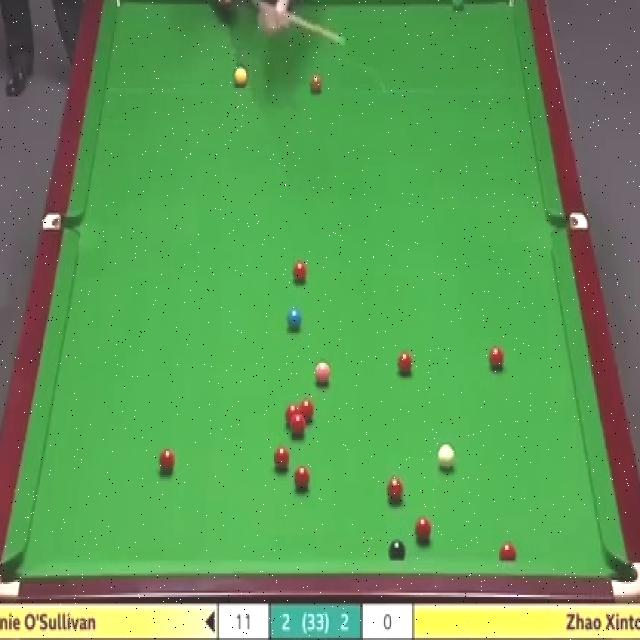black-ball: (386, 539, 405, 563)
blue-ball: (285, 307, 302, 334)
brown-ball: (308, 71, 322, 96)
green-ball: (450, 0, 467, 11)
pink-ball: (314, 357, 332, 386)
red-ball: (158, 447, 176, 477), (396, 349, 414, 379), (292, 465, 310, 495), (386, 476, 405, 504), (414, 516, 432, 545), (273, 444, 290, 472), (488, 344, 505, 372), (292, 262, 309, 287), (300, 399, 314, 426), (499, 540, 516, 562), (291, 417, 305, 438), (285, 404, 299, 425)
white-ball: (436, 443, 454, 473)
yellow-ball: (232, 66, 247, 87)
